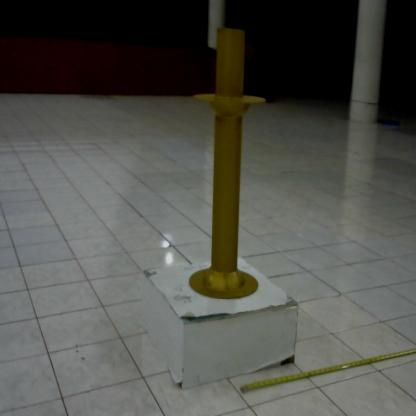pole: (183, 18, 272, 301)
